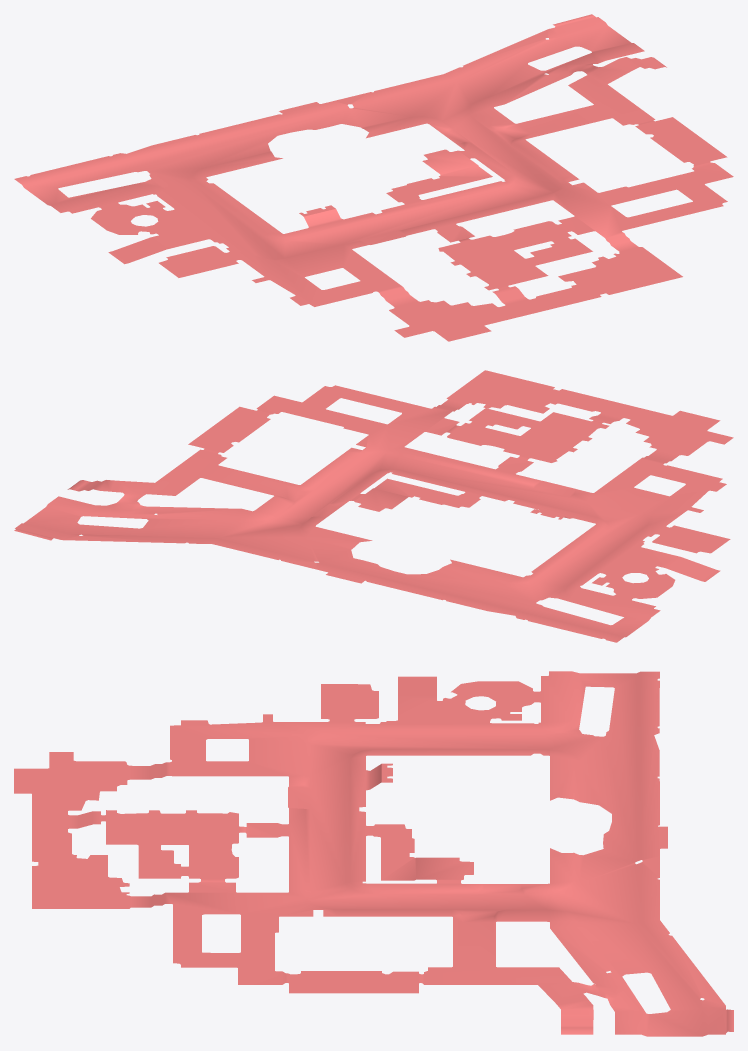
Rendered from Prohibited_UPTOWN.fbx.
The picture shows the model from 3 angles, top to bottom: view 1: azimuth 30°, elevation 25°; view 2: azimuth 150°, elevation 25°; view 3: azimuth 270°, elevation 25°; orthographic projection. The views are drawn at different scales.
Parts seen in each view (by area): view 1: Uptown; view 2: Uptown; view 3: Uptown.
Part boxes in pixels (x1,y1,x2,y2): Uptown: (14,14,733,341); Uptown: (14,370,733,642); Uptown: (14,671,733,1036).
Size of the model in its own units: 83.79 by 2.02 by 72.
